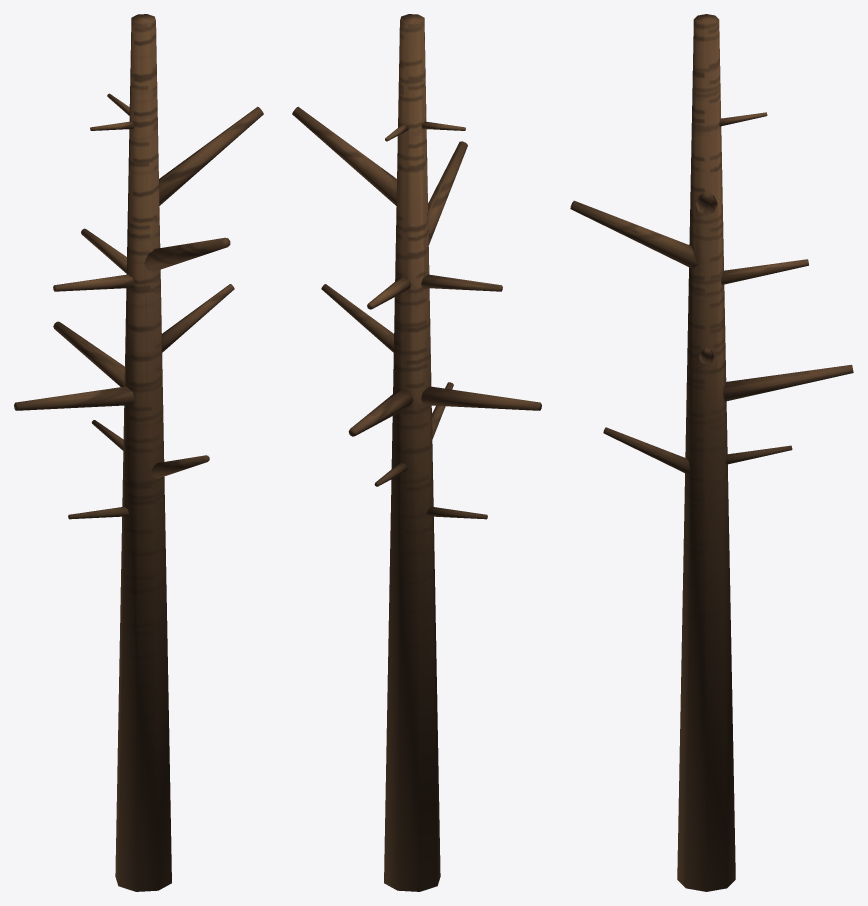
Rendered from dead tree.fbx.
The picture shows the model from 3 angles, left to right: view 1: azimuth 30°, elevation 25°; view 2: azimuth 150°, elevation 25°; view 3: azimuth 270°, elevation 25°; orthographic projection.
Parts seen in each view (by area): view 1: Cylinder.010; view 2: Cylinder.010; view 3: Cylinder.010.
Part boxes in pixels (x1,y1,x2,y2): Cylinder.010: (14, 14, 263, 891); Cylinder.010: (292, 14, 541, 891); Cylinder.010: (570, 14, 853, 891).
Size of the model in its own units: 339 by 1127 by 336.
Materials: 1 (1 with a texture image).
